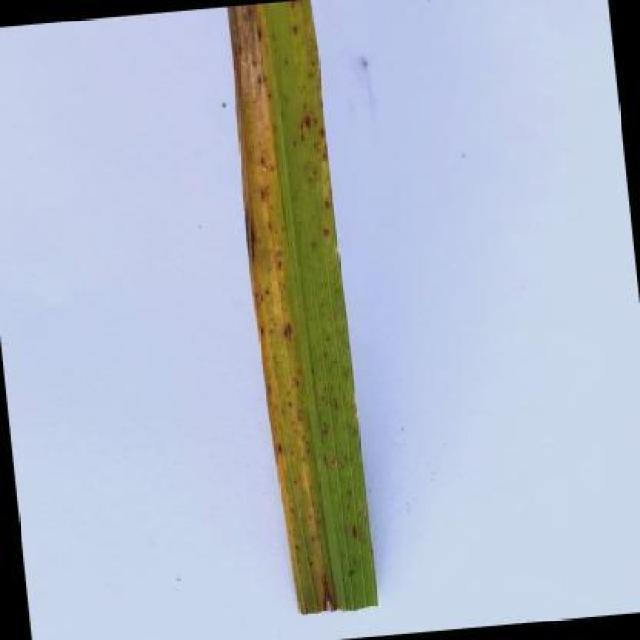Leaf_Blast: (342, 522, 363, 546), (341, 560, 359, 578)
Rice False Smut: (224, 0, 373, 625)
